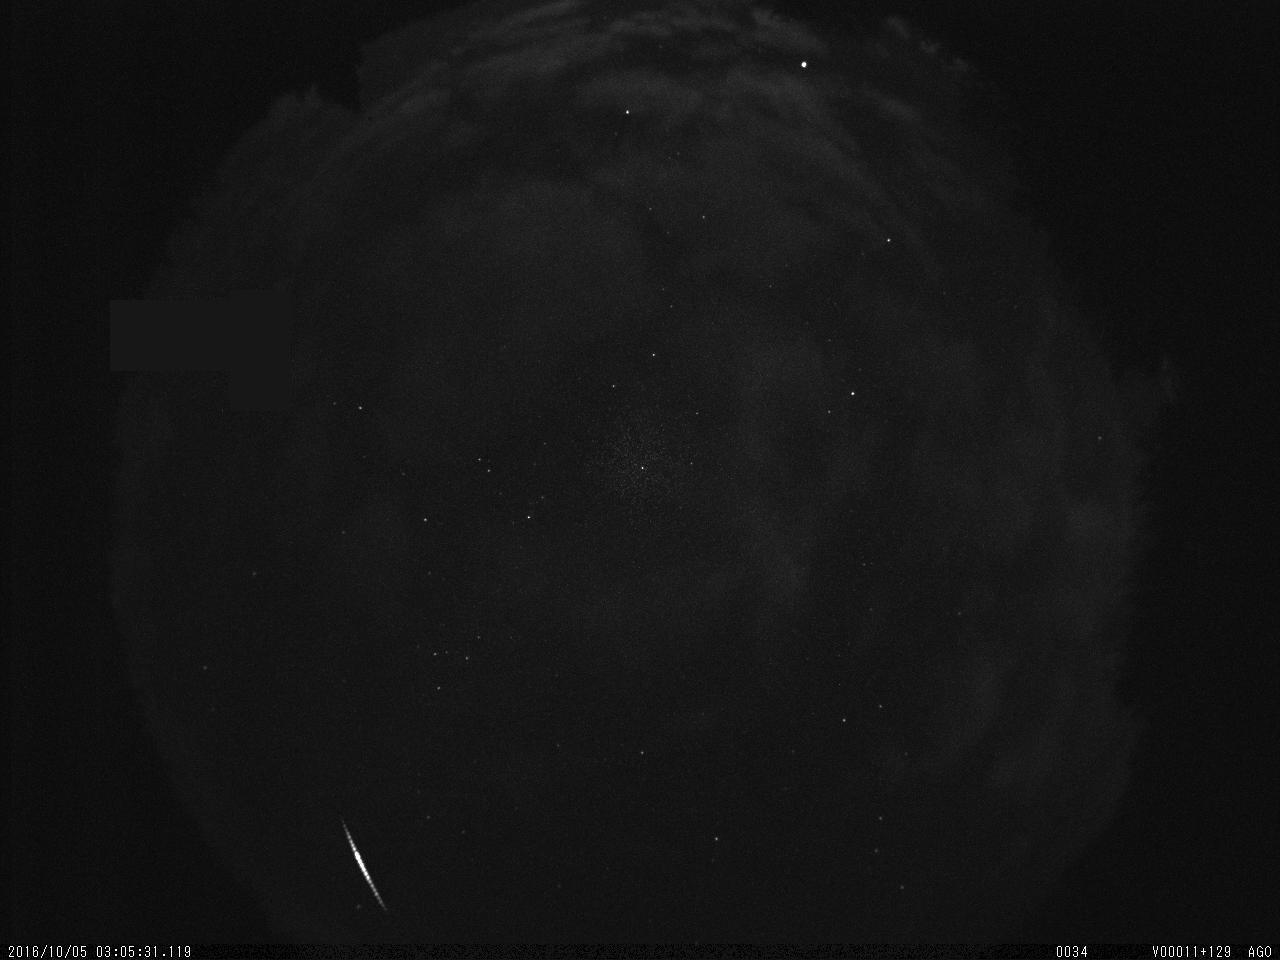meteor: (331, 813, 399, 925)
